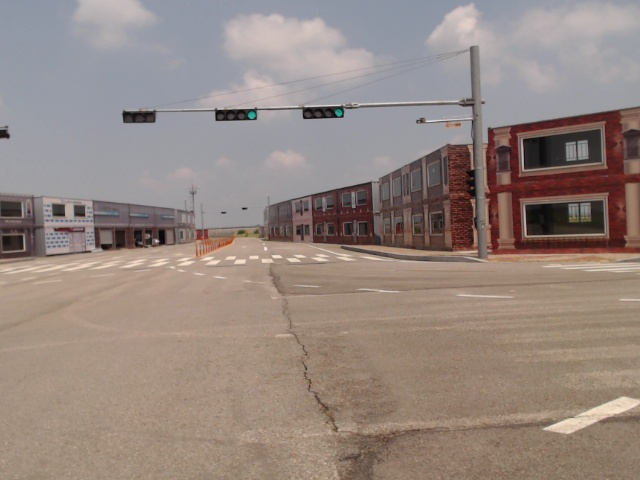straight_green_4: (213, 108, 257, 123), (303, 106, 344, 119)
